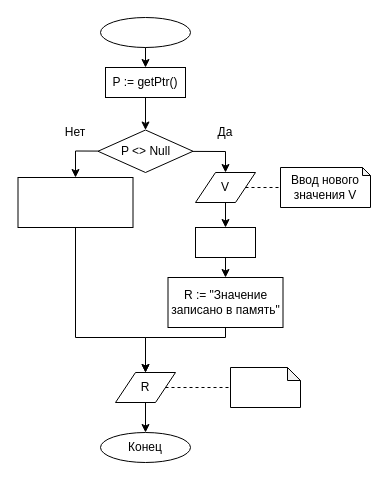
Some shapes in this 388 by 480 pixel diagram are drawn without their labels. Each missing label, with the box of its shape:
*P = V: (194, 226, 256, 258)
R := "Выход за границы памяти": (17, 176, 133, 228)
Вывод R: (230, 366, 300, 408)
Начало: (100, 16, 190, 48)
